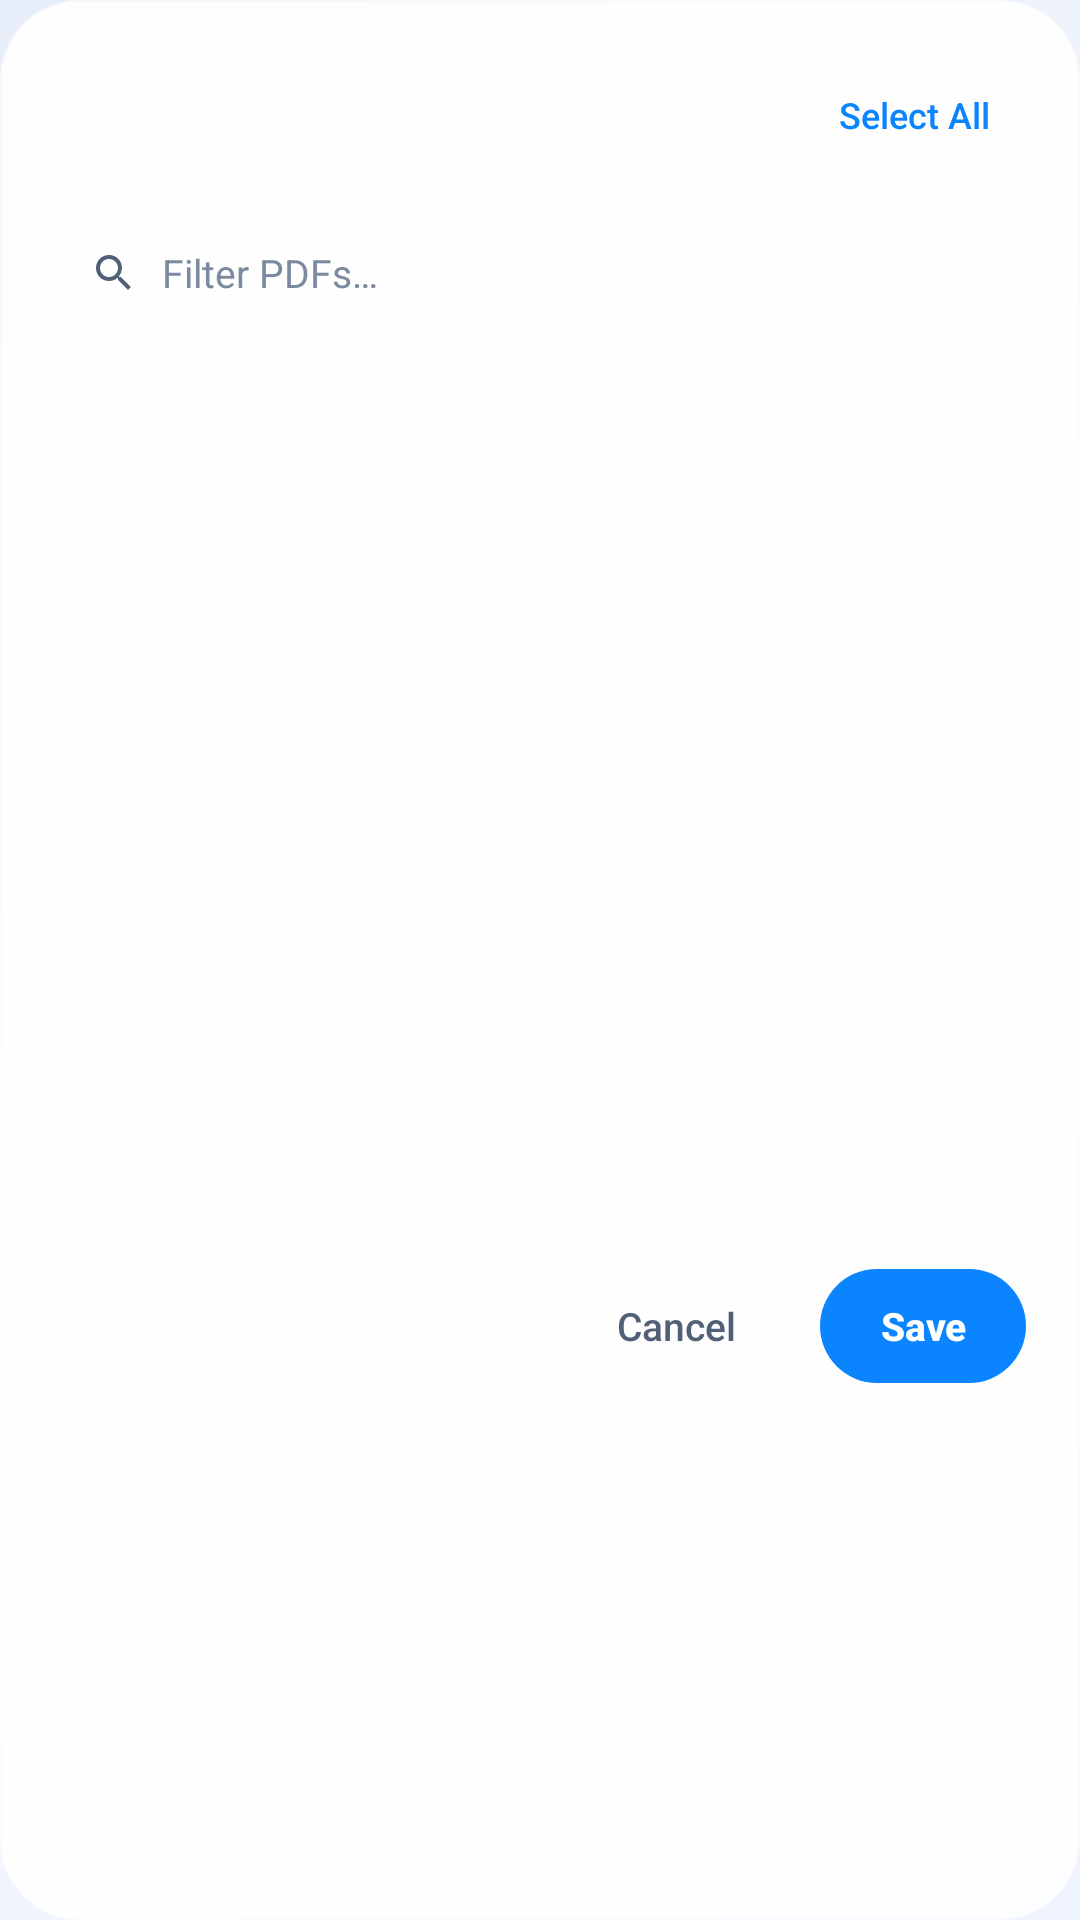

Icons on this 1080 × 1920 Android screen, each with the point to tap as (x,y):
search: (113,272)
